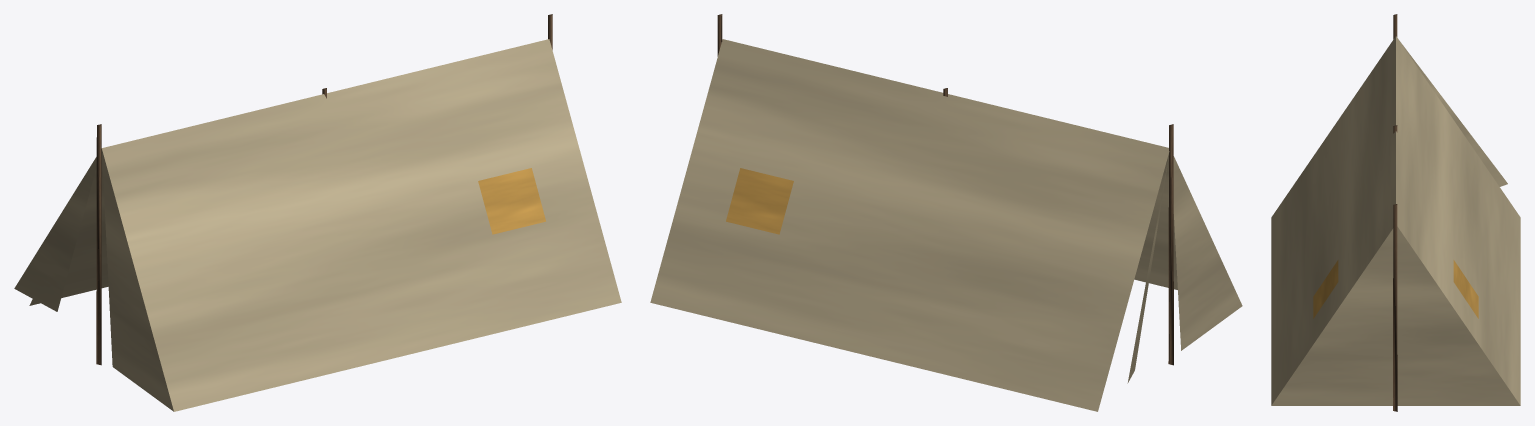
The model's file is Tent_Pilgrim_Long_1_LOD1.gltf.
3 renders of one model, left to right at view 1: azimuth 30°, elevation 25°; view 2: azimuth 150°, elevation 25°; view 3: azimuth 270°, elevation 25°, orthographic. The views are drawn at different scales.
Parts seen in each view (by area): view 1: Tent_Pilgrim_Long_1_LOD1; view 2: Tent_Pilgrim_Long_1_LOD1; view 3: Tent_Pilgrim_Long_1_LOD1.
Boxes of the visible parts, x1=… form: Tent_Pilgrim_Long_1_LOD1: x1=14, y1=14, x2=621, y2=411; Tent_Pilgrim_Long_1_LOD1: x1=650, y1=14, x2=1242, y2=411; Tent_Pilgrim_Long_1_LOD1: x1=1271, y1=14, x2=1520, y2=411.
Size of the model in its own units: 7.42 by 3.57 by 3.92.
3 materials, 3 textured.
